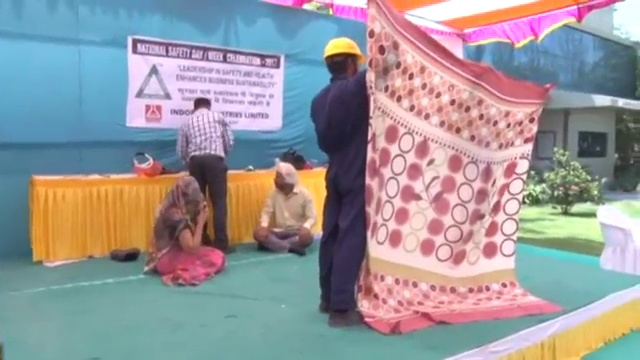helmet: (322, 36, 364, 64)
helmet_off: (270, 159, 297, 191), (178, 174, 204, 205), (189, 94, 216, 114)
helmet_on: (322, 38, 364, 78)
person: (309, 37, 368, 331), (177, 95, 240, 253), (145, 175, 225, 289), (252, 157, 318, 258)
